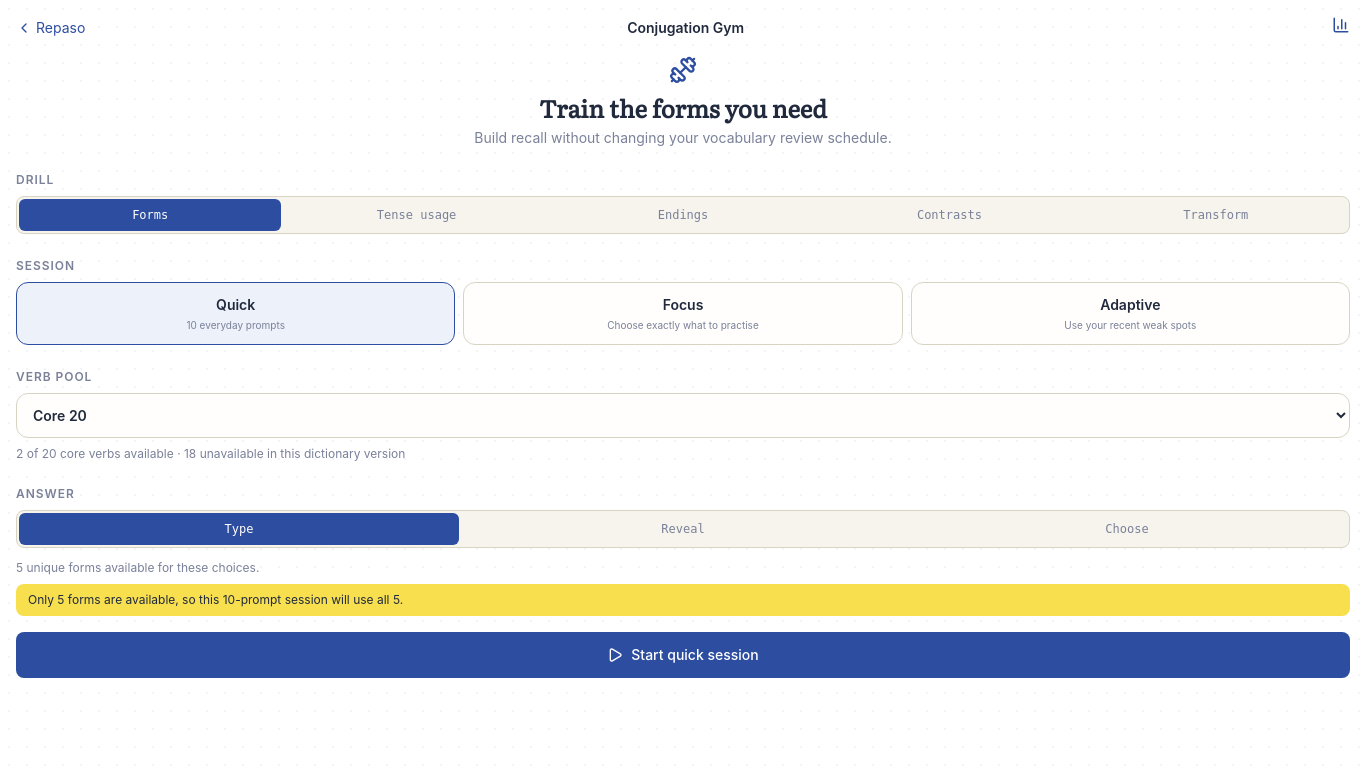
Test case: Conjugation Gym setup › offers the two curated pattern packs as reference-only pools
Select "Stem changers" in the dropdown named "Verb pool" at (683, 415), box [16,392,1350,438]
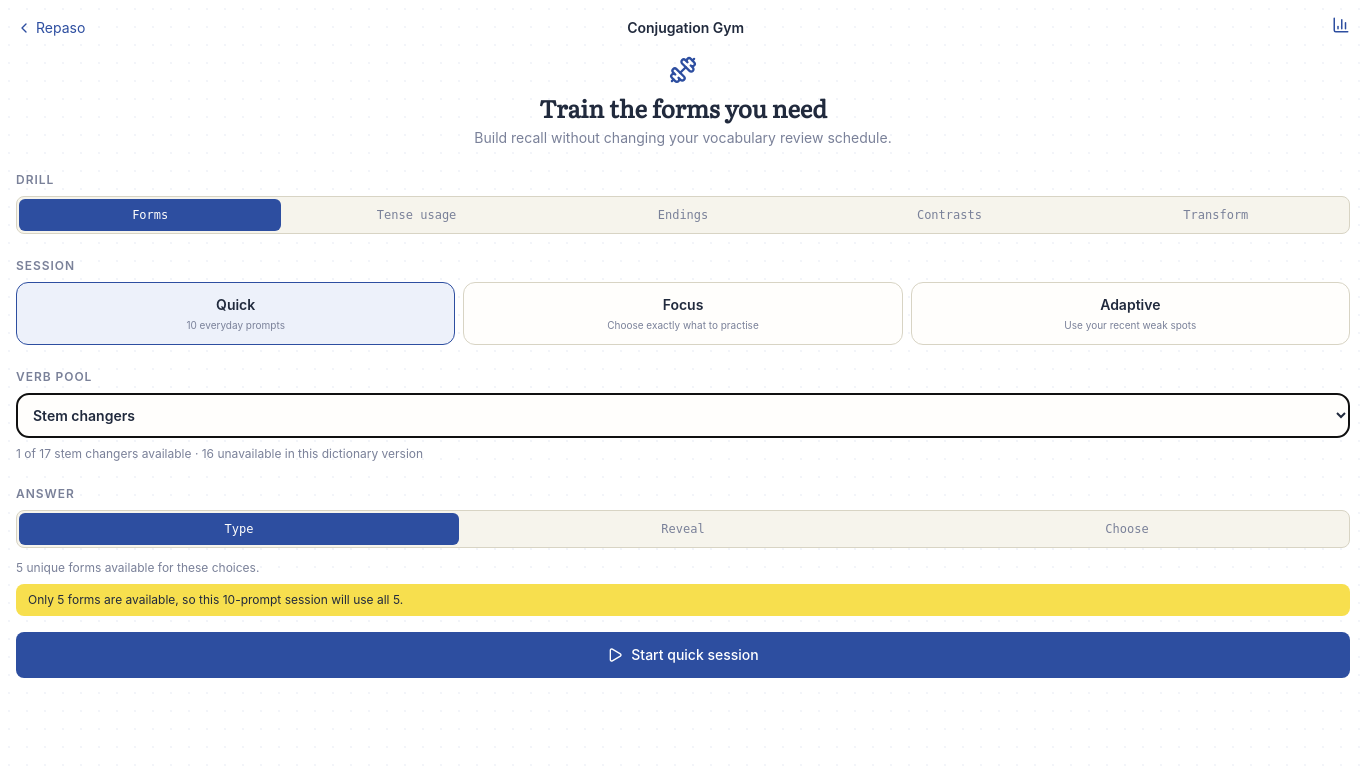
Expected: the text "1 of 17 stem changers available" is shown, [16,446,192,460]
Click the button "Start quick session" at (683, 654), box [16,632,1350,678]
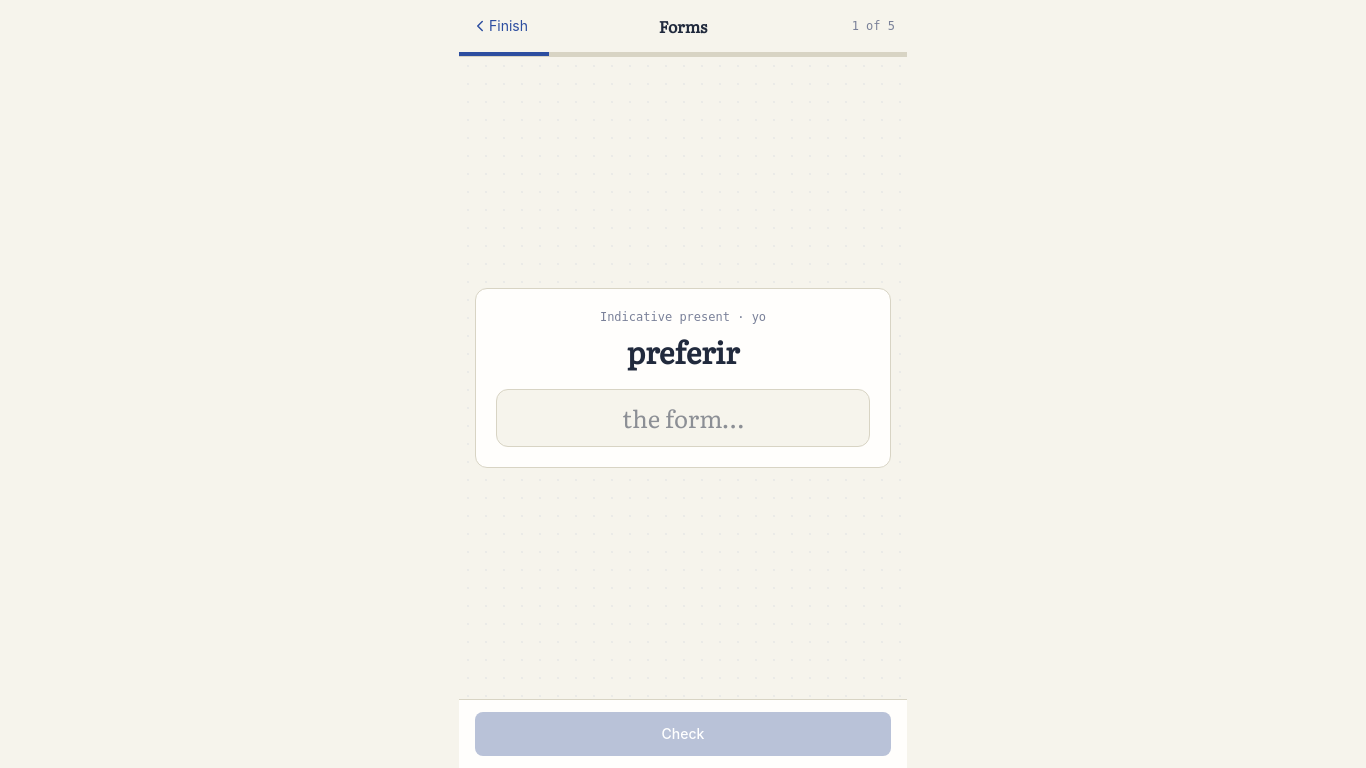
Expected: the text "preferir" is shown, [627,329,739,373]
Expected: the field named "Type the form" is shown, [496,389,870,447]
